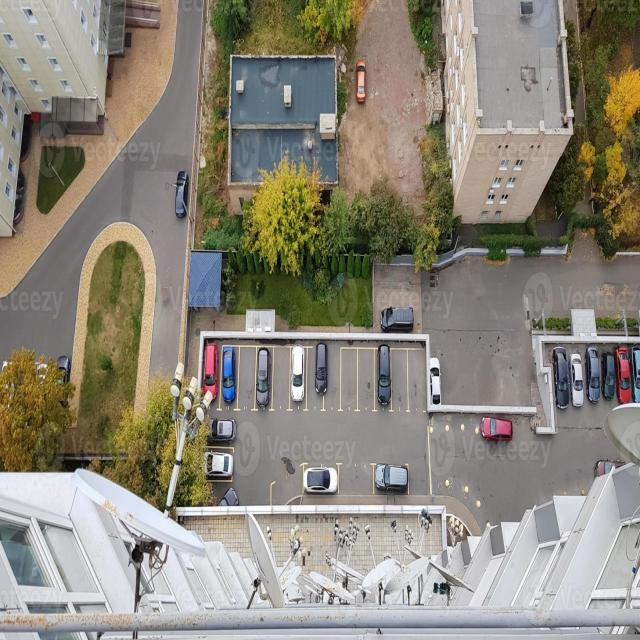libre: (445, 362, 541, 407), (395, 351, 424, 418), (184, 25, 197, 166), (171, 232, 183, 354), (382, 273, 415, 307), (340, 351, 358, 411), (238, 345, 252, 413), (342, 467, 372, 495), (274, 351, 286, 415), (361, 352, 373, 414)
ocupado: (546, 344, 640, 412), (200, 418, 239, 506), (289, 341, 332, 415), (198, 343, 237, 416), (478, 408, 515, 452), (375, 338, 394, 416), (299, 464, 338, 499), (254, 343, 272, 415), (372, 461, 409, 496), (380, 302, 416, 336), (428, 354, 443, 413), (174, 168, 189, 227)
